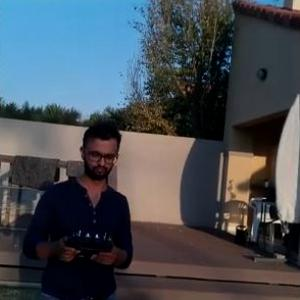follow: (15, 112, 137, 299)
